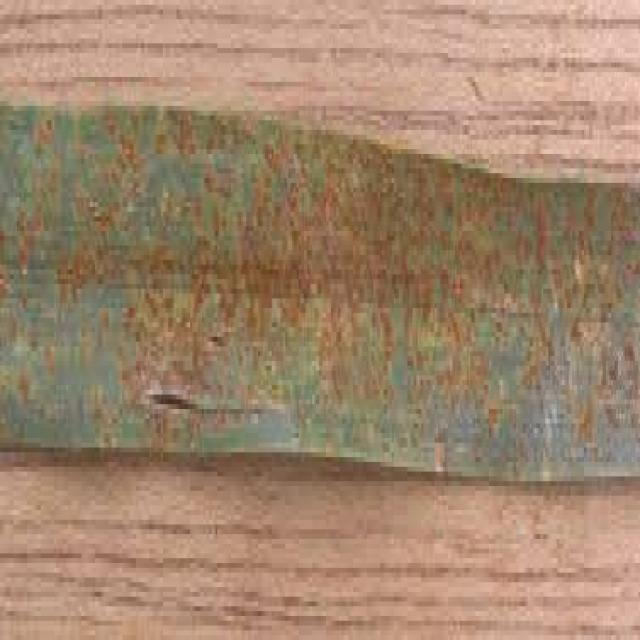leaf rust: (7, 115, 640, 452)
